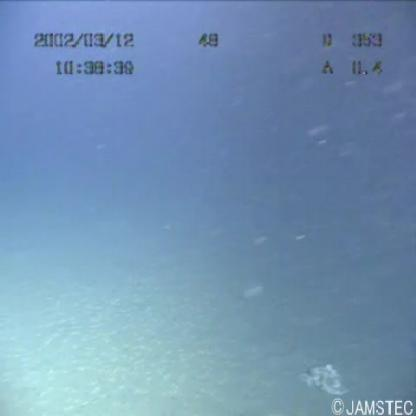Rác: (291, 365, 360, 403)
